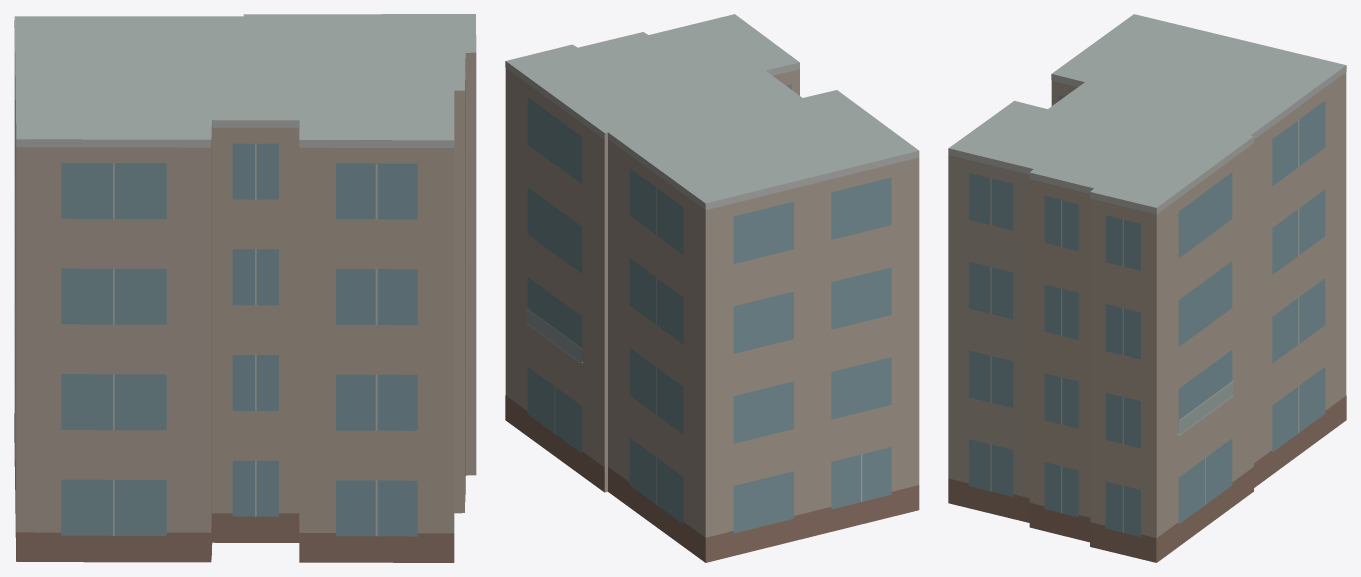
The model's file is survey-upis-32636466.glb.
3 renders of one model, left to right at view 1: azimuth 30°, elevation 25°; view 2: azimuth 150°, elevation 25°; view 3: azimuth 270°, elevation 25°, orthographic. The views are drawn at different scales.
Visible parts, largest first — view 1: survey-upis-32636466.tmp; view 2: survey-upis-32636466.tmp; view 3: survey-upis-32636466.tmp.
Part boxes in pixels (<box>): survey-upis-32636466.tmp: <box>14,14,476,562</box>; survey-upis-32636466.tmp: <box>505,14,919,562</box>; survey-upis-32636466.tmp: <box>948,14,1346,562</box>.
Bounding box in the file's own units: 15.36 × 13.1 × 13.32.
